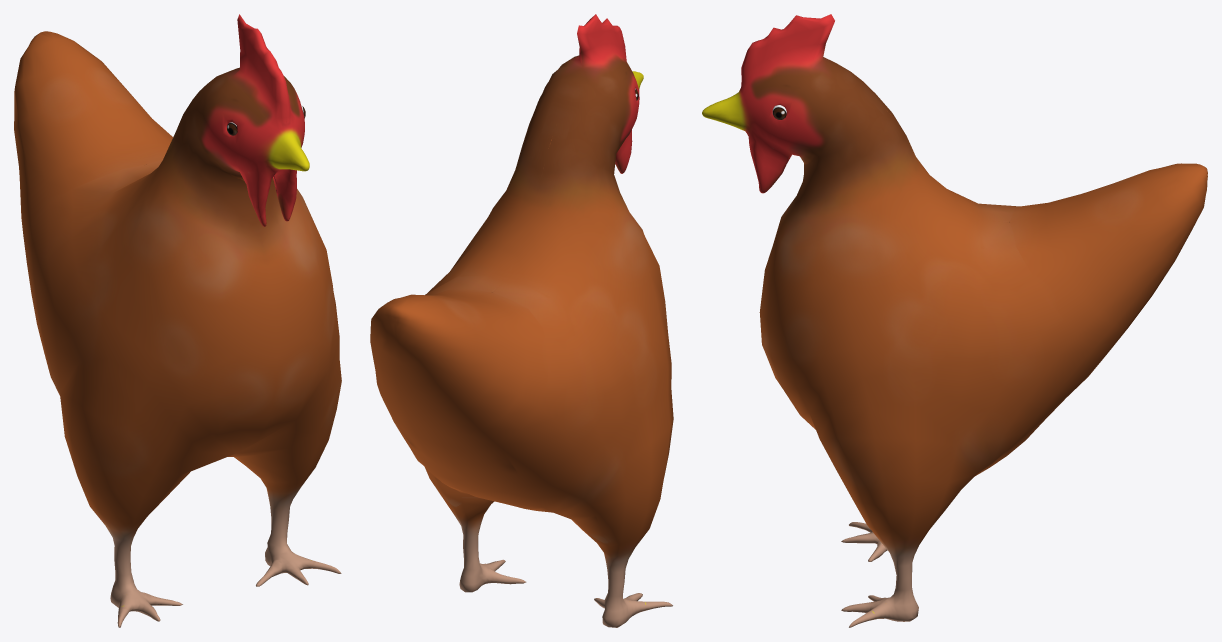
The model's file is chicken.glb.
3 renders of one model, left to right at view 1: azimuth 30°, elevation 25°; view 2: azimuth 150°, elevation 25°; view 3: azimuth 270°, elevation 25°, orthographic. The views are drawn at different scales.
Parts seen in each view (by area): view 1: chicken; view 2: chicken; view 3: chicken.
Part boxes in pixels (bbox=[...]): chicken: bbox=[14, 14, 341, 627]; chicken: bbox=[370, 14, 673, 627]; chicken: bbox=[702, 14, 1207, 627].
Bounding box in the file's own units: 0.4706 × 1.09 × 0.8813.
1 material, 1 textured.
